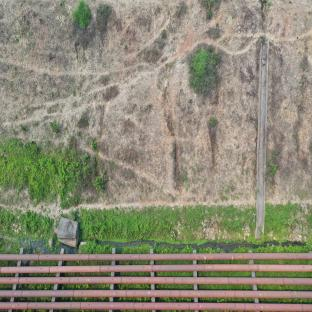slope_drain: (254, 39, 270, 239)
toe_drain: (9, 238, 309, 250)
vegetation: (188, 49, 220, 100)
